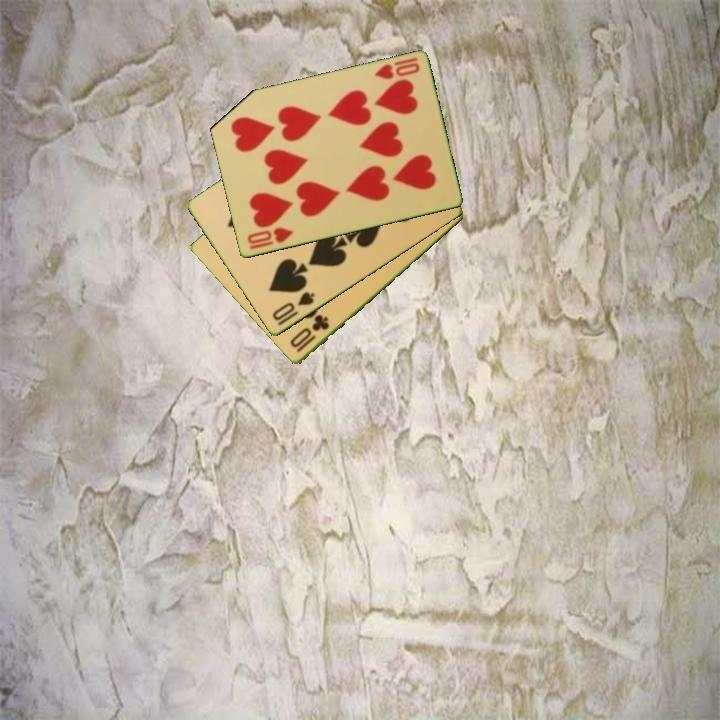10c: (286, 311, 332, 356)
10h: (244, 224, 296, 253), (371, 54, 422, 83)
10s: (268, 289, 318, 324)
